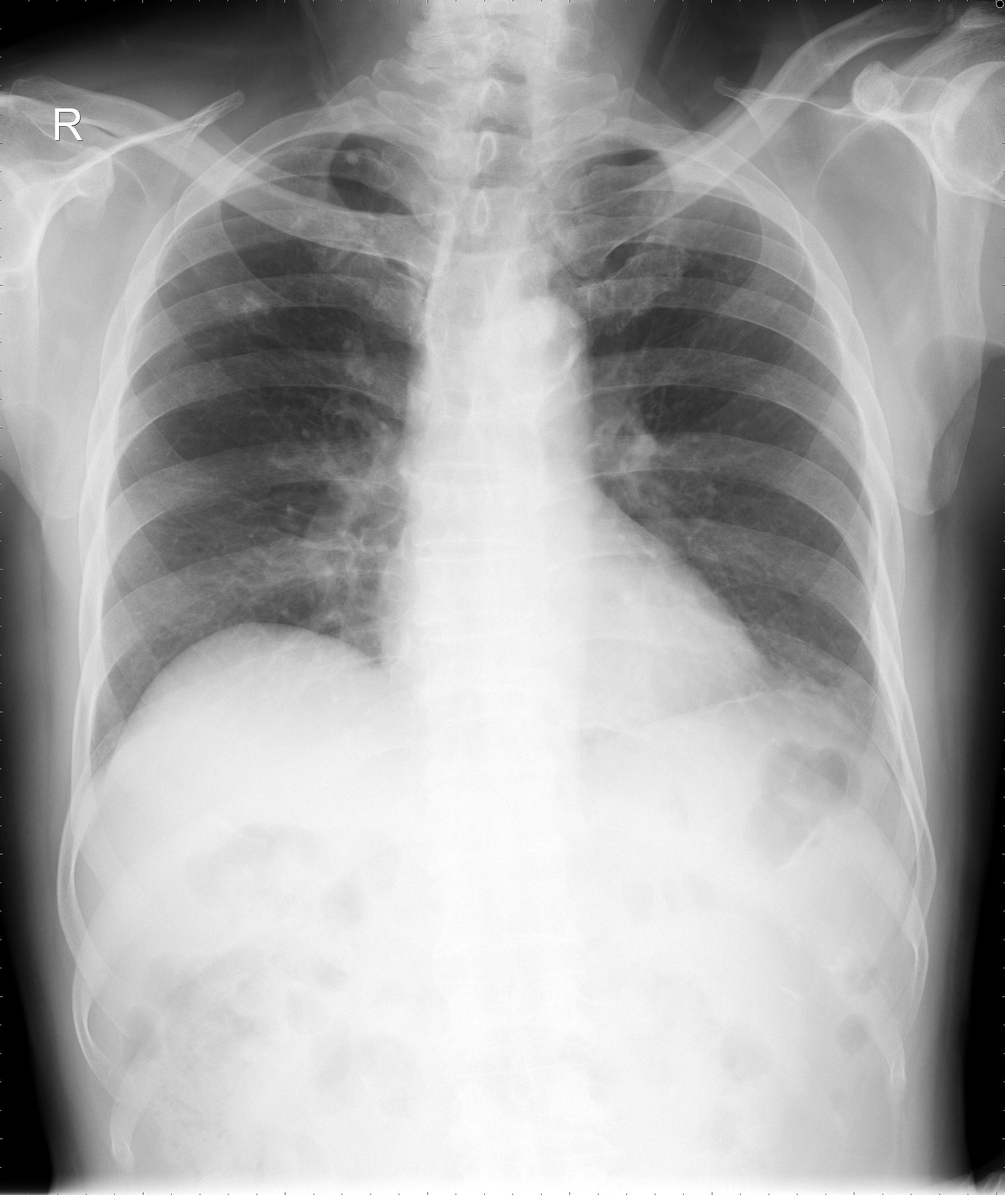Aortic enlargement: (490, 294, 593, 434)
